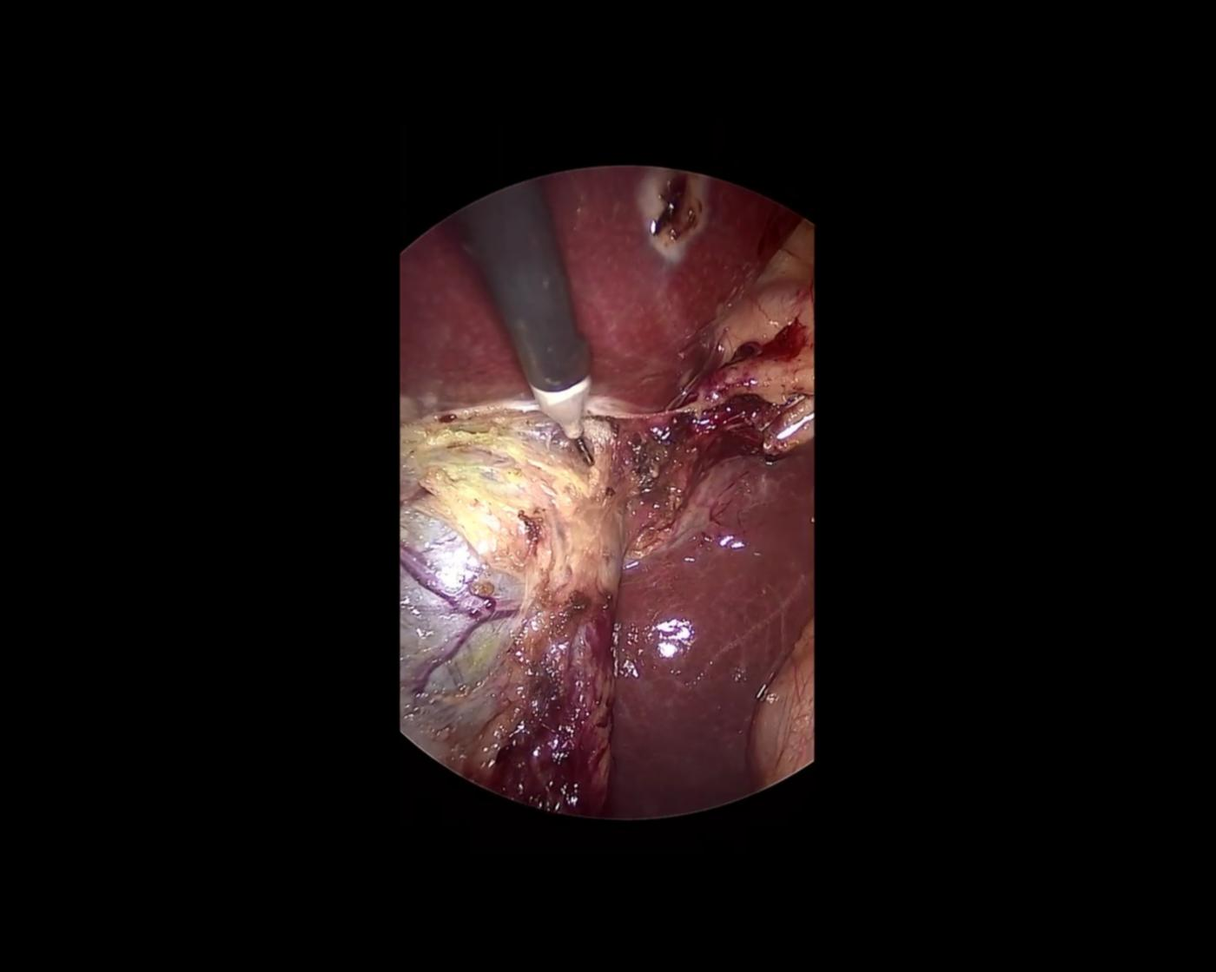Cautery: (446, 174, 625, 489)
Liver: (400, 163, 781, 415), (403, 402, 621, 810), (604, 445, 815, 814)
